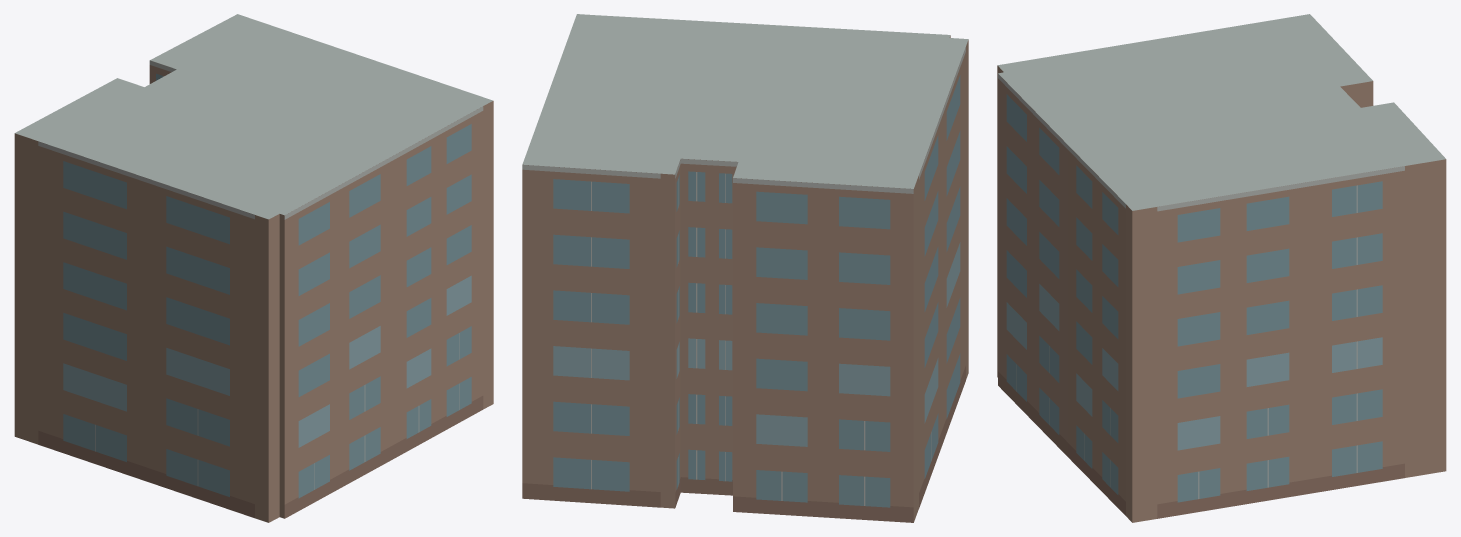
The model's file is survey-upis-32854918.glb.
3 renders of one model, left to right at view 1: azimuth 30°, elevation 25°; view 2: azimuth 150°, elevation 25°; view 3: azimuth 270°, elevation 25°, orthographic. The views are drawn at different scales.
Parts seen in each view (by area): view 1: survey-upis-32854918.tmp; view 2: survey-upis-32854918.tmp; view 3: survey-upis-32854918.tmp.
Boxes of the visible parts, box(x1,y1,x2,y2) form: survey-upis-32854918.tmp: box(14, 14, 493, 522); survey-upis-32854918.tmp: box(522, 14, 968, 522); survey-upis-32854918.tmp: box(997, 14, 1446, 522).
Bounding box in the file's own units: 22.07 × 16.3 × 21.26.
